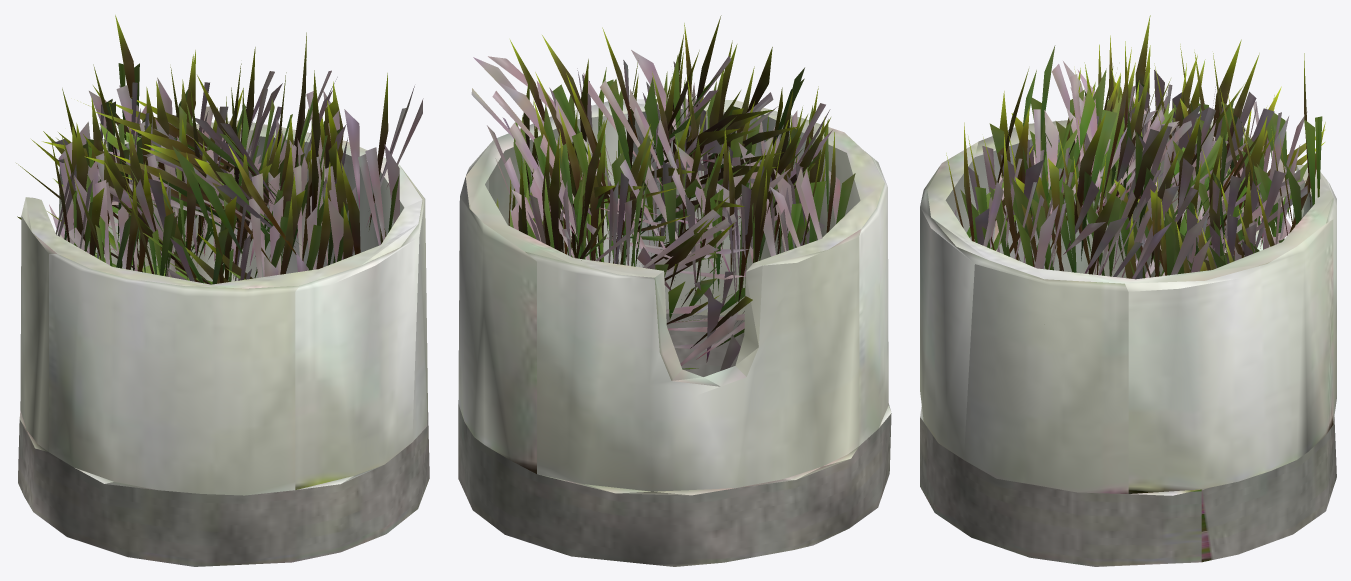
Rendered from Plant0020.obj.
3 views of the same model, side by side, from view 1: azimuth 30°, elevation 25°; view 2: azimuth 150°, elevation 25°; view 3: azimuth 270°, elevation 25° (orthographic). The views are drawn at different scales.
Bounding box in the file's own units: 0.119 × 0.128 × 0.114.
Materials: 1 (1 with a texture image).
